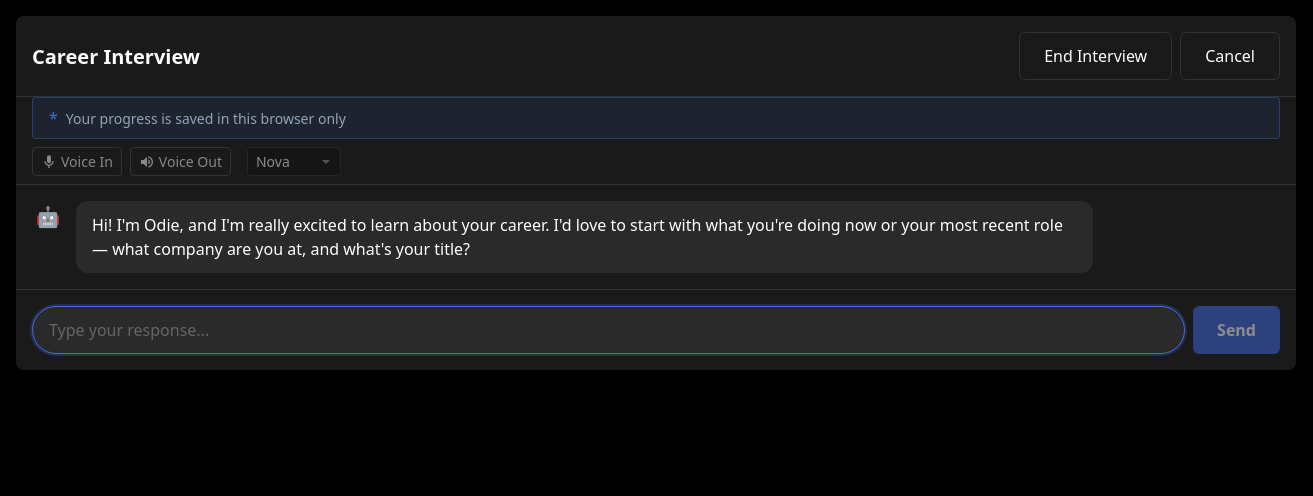
Test: InterviewChat Phase 2 streaming changes › error event handling › shows error when response is not authenticated (pre-stream error)
Type "Auth error test" into the field with test id "interview-input" at (609, 330), box x1=32 y1=306 x2=1185 y2=354
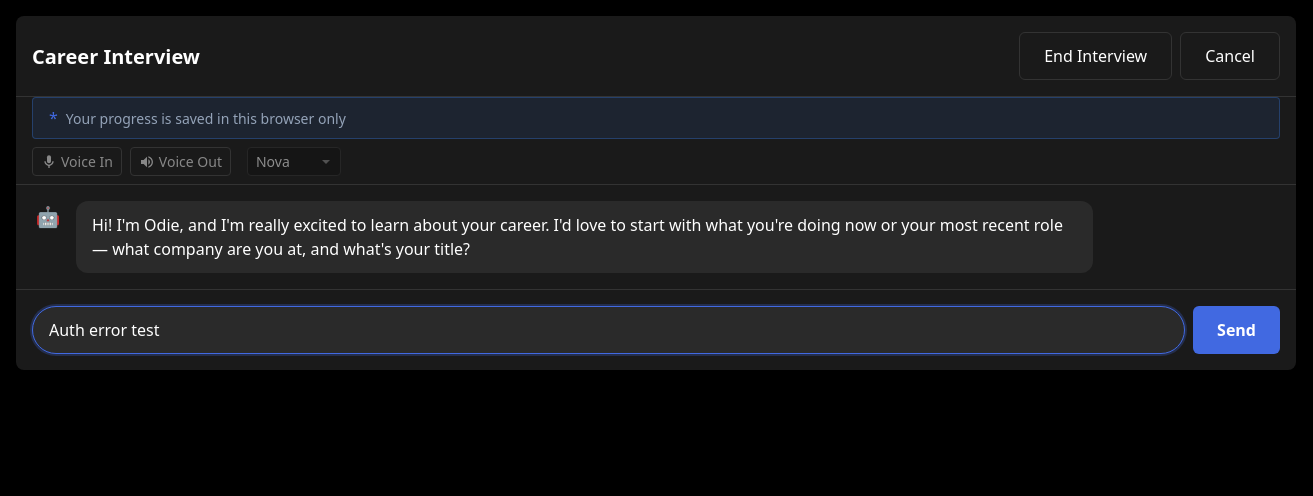
Click the button with test id "interview-send" at (1237, 330), box x1=1193 y1=306 x2=1280 y2=354
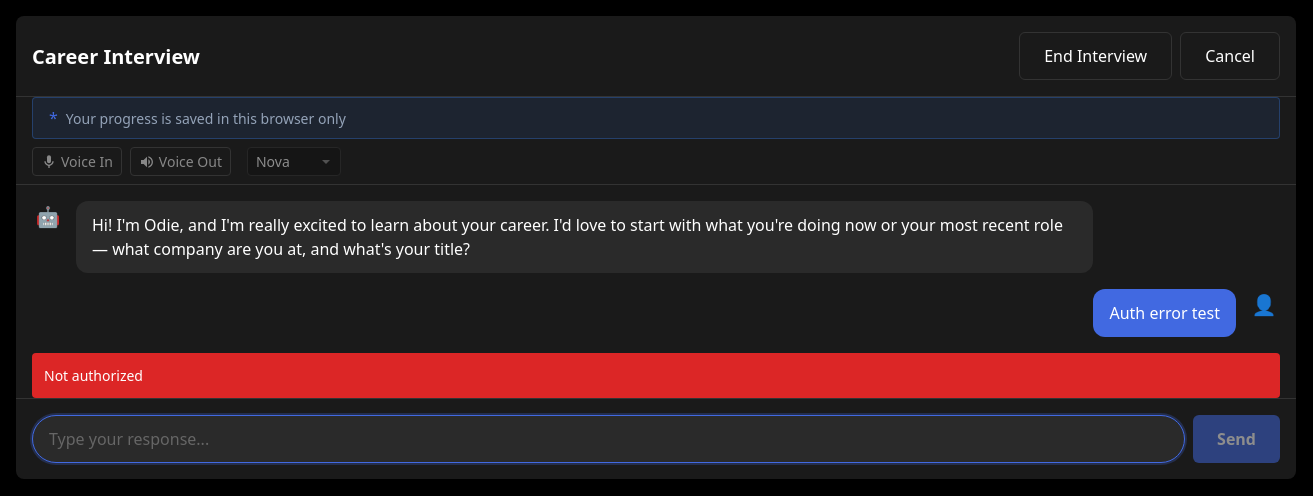
Expected: the text "Not authorized" is shown, x1=32 y1=353 x2=1280 y2=398
Expected: the text with test id "interview-error" reads "Not authorized", x1=44 y1=366 x2=143 y2=385
